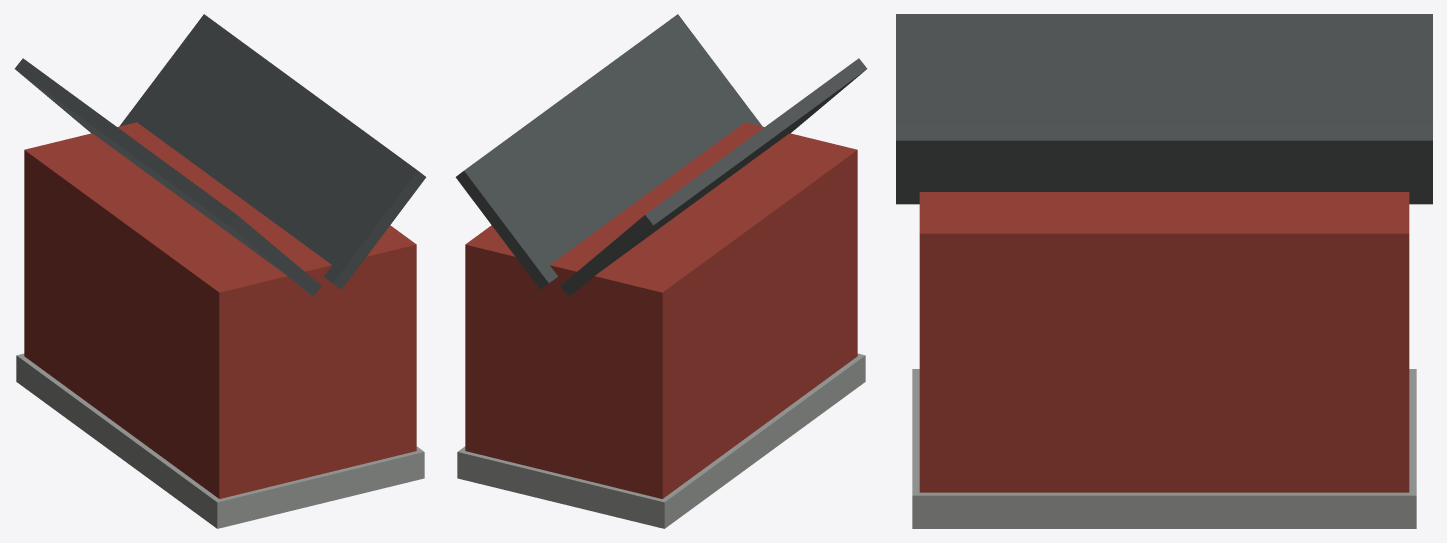
File: norway-house-red-dark_lod1.glb
3 renders of one model, left to right at view 1: azimuth 30°, elevation 25°; view 2: azimuth 150°, elevation 25°; view 3: azimuth 270°, elevation 25°, orthographic. The views are drawn at different scales.
Parts seen in each view (by area): view 1: RF_House_Walls, RF_House_RoofB, RF_House_Foundation, RF_House_RoofA; view 2: RF_House_Walls, RF_House_RoofB, RF_House_Foundation, RF_House_RoofA; view 3: RF_House_Walls, RF_House_RoofA, RF_House_RoofB, RF_House_Foundation.
Boxes of the visible parts, bbox=[...] form: RF_House_Walls: bbox=[24, 122, 416, 498]; RF_House_RoofB: bbox=[119, 14, 426, 289]; RF_House_Foundation: bbox=[16, 353, 424, 528]; RF_House_RoofA: bbox=[14, 58, 321, 296]; RF_House_Walls: bbox=[465, 122, 857, 498]; RF_House_RoofB: bbox=[455, 14, 762, 289]; RF_House_Foundation: bbox=[457, 353, 865, 528]; RF_House_RoofA: bbox=[560, 58, 867, 296]; RF_House_Walls: bbox=[919, 192, 1409, 492]; RF_House_RoofA: bbox=[896, 14, 1432, 124]; RF_House_RoofB: bbox=[896, 124, 1432, 204]; RF_House_Foundation: bbox=[912, 369, 1416, 528].
Bounding box in the file's own units: 7.35 × 10.71 × 13.15.
